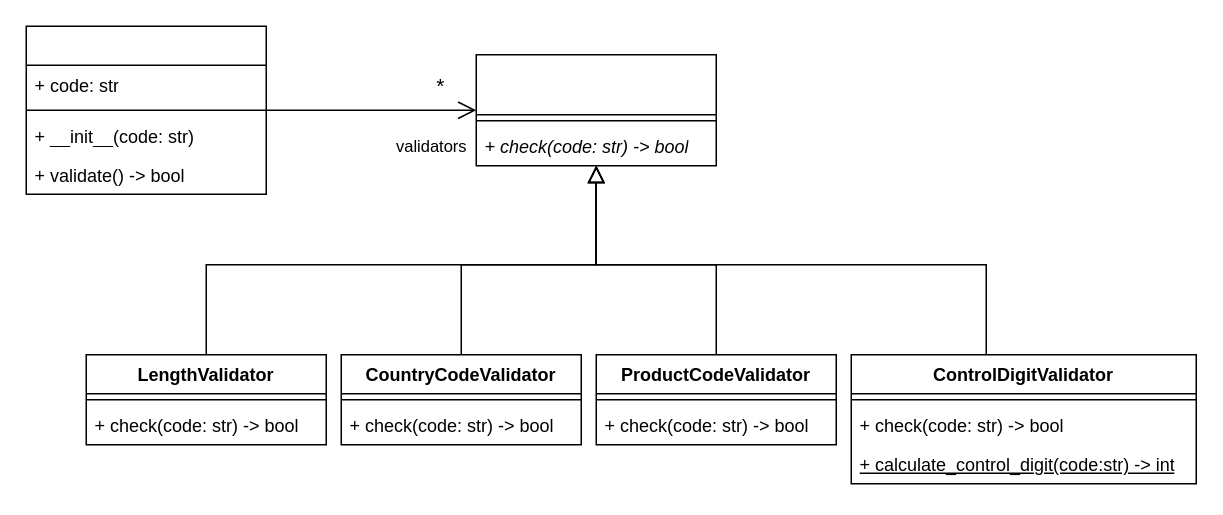
Some shapes in this 1223 by 515 pixel diagram are drawn without their labels. The shapes that lost their labels are listed below. From the top down, each one's box as (x1, y1, x2, y2) in pixels, then its label:
(25, 25, 266, 194): BarCode
(475, 53, 716, 166): <<abstract>> BarCodeValidator
